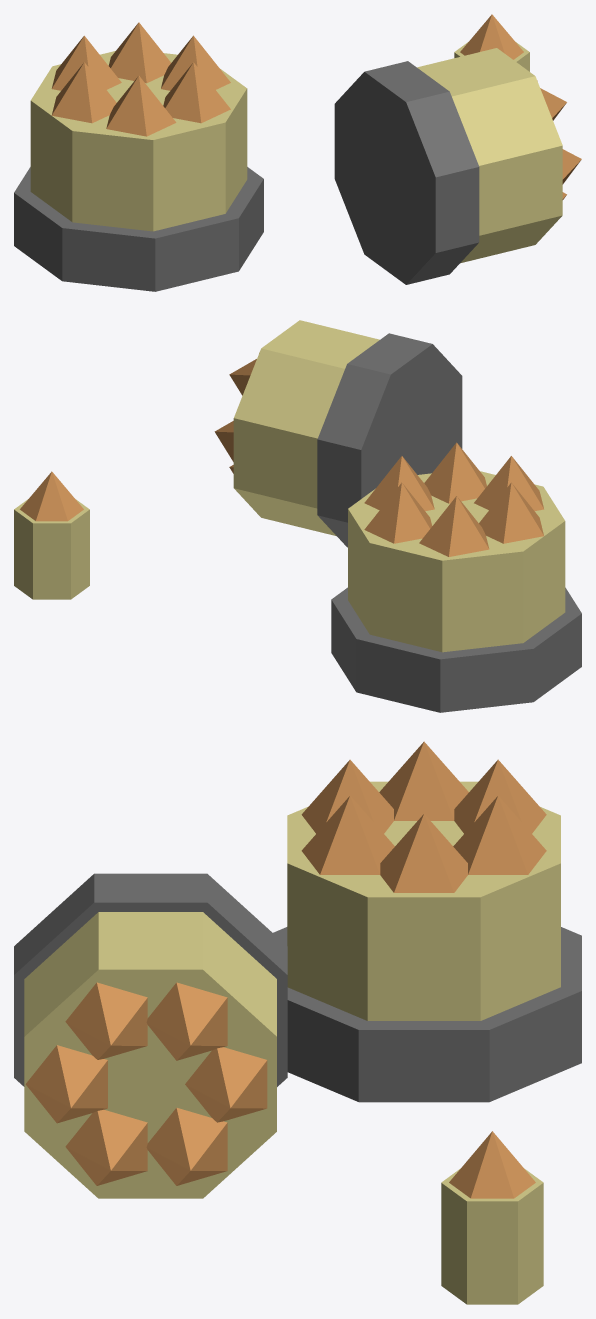
Rendered from ce_ammo_revolver_fmj_b.obj.
3 views of the same model, one above another, from view 1: azimuth 30°, elevation 25°; view 2: azimuth 150°, elevation 25°; view 3: azimuth 270°, elevation 25° (orthographic). The views are drawn at different scales.
Visible parts, largest first — view 1: ce_ammo_revolver_fmj_b_8, ce_ammo_revolver_fmj_b_1, ce_ammo_revolver_fmj_b_9, ce_ammo_revolver_fmj_b_0, ce_ammo_revolver_fmj_b_6, ce_ammo_revolver_fmj_b_5, ce_ammo_revolver_fmj_b_7, ce_ammo_revolver_fmj_b_3, ce_ammo_revolver_fmj_b_4, ce_ammo_revolver_fmj_b_2, ce_ammo_revolver_fmj_b_17, ce_ammo_revolver_fmj_b_13 (+1 smaller); view 2: ce_ammo_revolver_fmj_b_1, ce_ammo_revolver_fmj_b_8, ce_ammo_revolver_fmj_b_9, ce_ammo_revolver_fmj_b_0, ce_ammo_revolver_fmj_b_16, ce_ammo_revolver_fmj_b_4, ce_ammo_revolver_fmj_b_5, ce_ammo_revolver_fmj_b_3, ce_ammo_revolver_fmj_b_7, ce_ammo_revolver_fmj_b_17, ce_ammo_revolver_fmj_b_6, ce_ammo_revolver_fmj_b_2; view 3: ce_ammo_revolver_fmj_b_1, ce_ammo_revolver_fmj_b_9, ce_ammo_revolver_fmj_b_0, ce_ammo_revolver_fmj_b_8, ce_ammo_revolver_fmj_b_16, ce_ammo_revolver_fmj_b_2, ce_ammo_revolver_fmj_b_11, ce_ammo_revolver_fmj_b_15, ce_ammo_revolver_fmj_b_10, ce_ammo_revolver_fmj_b_12, ce_ammo_revolver_fmj_b_14, ce_ammo_revolver_fmj_b_13 (+6 smaller).
Boxes of the visible parts, box(x1,y1,x2,y2) form: ce_ammo_revolver_fmj_b_8: box(334, 61, 479, 284); ce_ammo_revolver_fmj_b_1: box(30, 51, 247, 231); ce_ammo_revolver_fmj_b_9: box(417, 48, 562, 263); ce_ammo_revolver_fmj_b_0: box(14, 167, 263, 291); ce_ammo_revolver_fmj_b_6: box(106, 76, 176, 136); ce_ammo_revolver_fmj_b_5: box(51, 62, 116, 123); ce_ammo_revolver_fmj_b_7: box(163, 62, 230, 123); ce_ammo_revolver_fmj_b_3: box(108, 22, 170, 83); ce_ammo_revolver_fmj_b_4: box(51, 35, 121, 90); ce_ammo_revolver_fmj_b_2: box(161, 35, 230, 90); ce_ammo_revolver_fmj_b_17: box(460, 14, 523, 59); ce_ammo_revolver_fmj_b_13: box(562, 149, 581, 184); ce_ammo_revolver_fmj_b_1: box(348, 471, 565, 652); ce_ammo_revolver_fmj_b_8: box(317, 333, 462, 547); ce_ammo_revolver_fmj_b_9: box(233, 320, 379, 535); ce_ammo_revolver_fmj_b_0: box(331, 587, 581, 712); ce_ammo_revolver_fmj_b_16: box(14, 499, 89, 599); ce_ammo_revolver_fmj_b_4: box(419, 496, 489, 556); ce_ammo_revolver_fmj_b_5: box(479, 482, 543, 543); ce_ammo_revolver_fmj_b_3: box(364, 482, 432, 543); ce_ammo_revolver_fmj_b_7: box(424, 442, 486, 503); ce_ammo_revolver_fmj_b_17: box(20, 471, 83, 521); ce_ammo_revolver_fmj_b_6: box(474, 456, 543, 510); ce_ammo_revolver_fmj_b_2: box(364, 456, 434, 511); ce_ammo_revolver_fmj_b_1: box(287, 781, 560, 1020); ce_ammo_revolver_fmj_b_9: box(24, 912, 276, 1198); ce_ammo_revolver_fmj_b_0: box(273, 927, 581, 1102); ce_ammo_revolver_fmj_b_8: box(14, 873, 287, 1086); ce_ammo_revolver_fmj_b_16: box(441, 1168, 543, 1304); ce_ammo_revolver_fmj_b_2: box(380, 814, 467, 892); ce_ammo_revolver_fmj_b_11: box(146, 982, 227, 1060); ce_ammo_revolver_fmj_b_15: box(146, 1107, 227, 1185); ce_ammo_revolver_fmj_b_10: box(185, 1047, 267, 1122); ce_ammo_revolver_fmj_b_12: box(65, 982, 147, 1059); ce_ammo_revolver_fmj_b_14: box(65, 1109, 147, 1185); ce_ammo_revolver_fmj_b_13: box(25, 1045, 107, 1123).
Size of the model in its own units: 0.6976 by 0.2501 by 0.4987.
